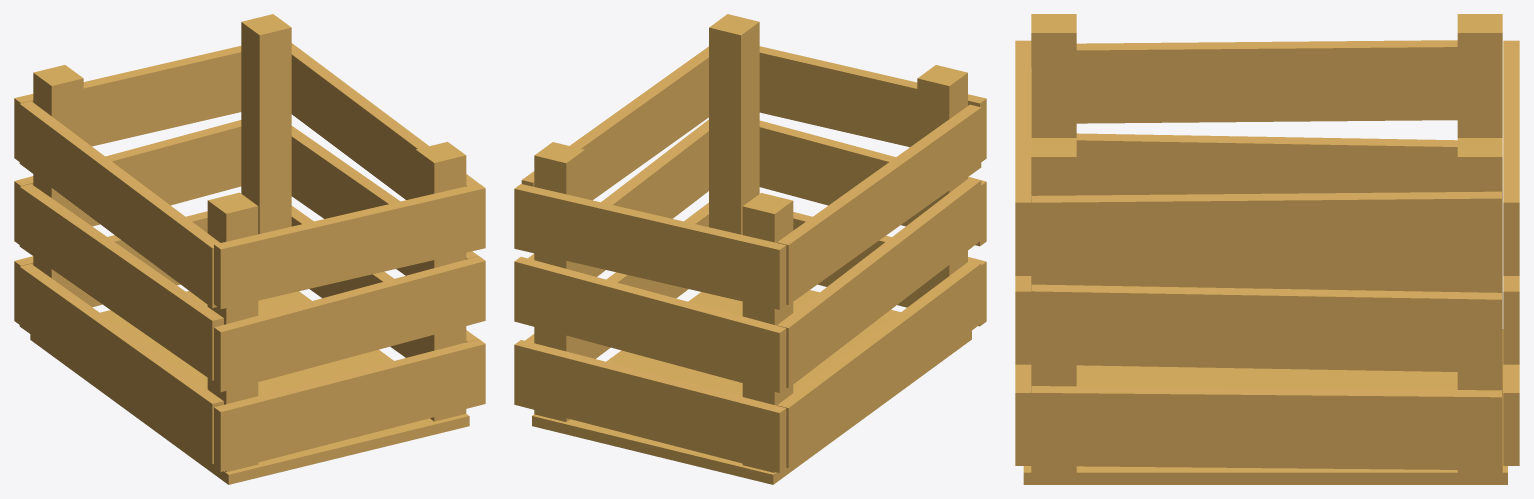
The model's file is Wood_Box.fbx.
3 views of the same model, side by side, from view 1: azimuth 30°, elevation 25°; view 2: azimuth 150°, elevation 25°; view 3: azimuth 270°, elevation 25° (orthographic). The views are drawn at different scales.
Parts seen in each view (by area): view 1: Cube.195; view 2: Cube.195; view 3: Cube.195.
Boxes of the visible parts, x1,y1,x2,y2 form: Cube.195: [14, 14, 485, 484]; Cube.195: [514, 14, 986, 484]; Cube.195: [1015, 14, 1519, 484].
Size of the model in its own units: 50.81 by 48.91 by 68.2.
